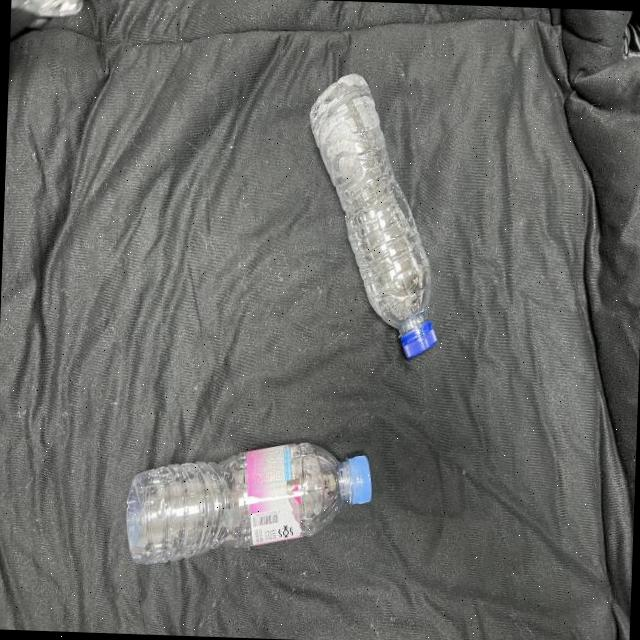bottle: (292, 56, 458, 379), (119, 429, 384, 579)
cap: (396, 318, 444, 364), (344, 444, 376, 512)
label: (242, 439, 312, 556)
